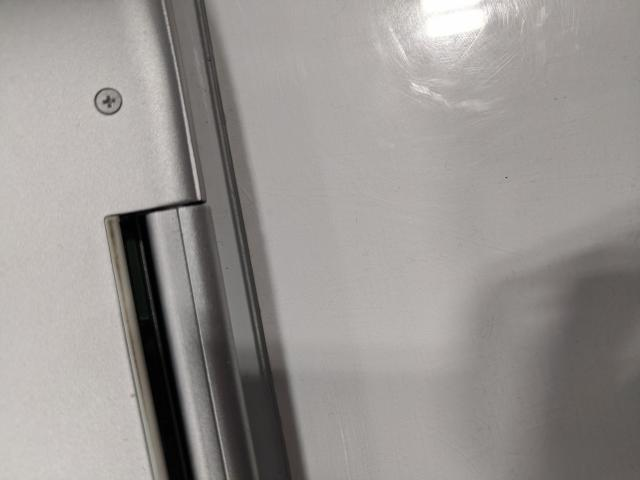CRS: (93, 88, 124, 114)
